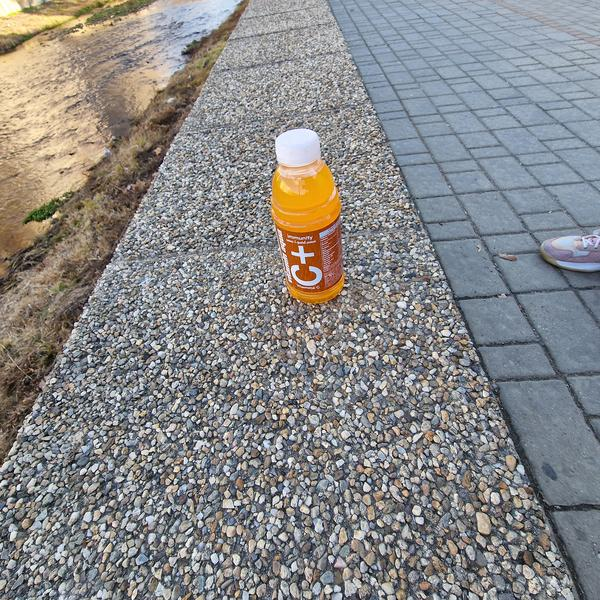plastic_bottle: (257, 122, 357, 310)
